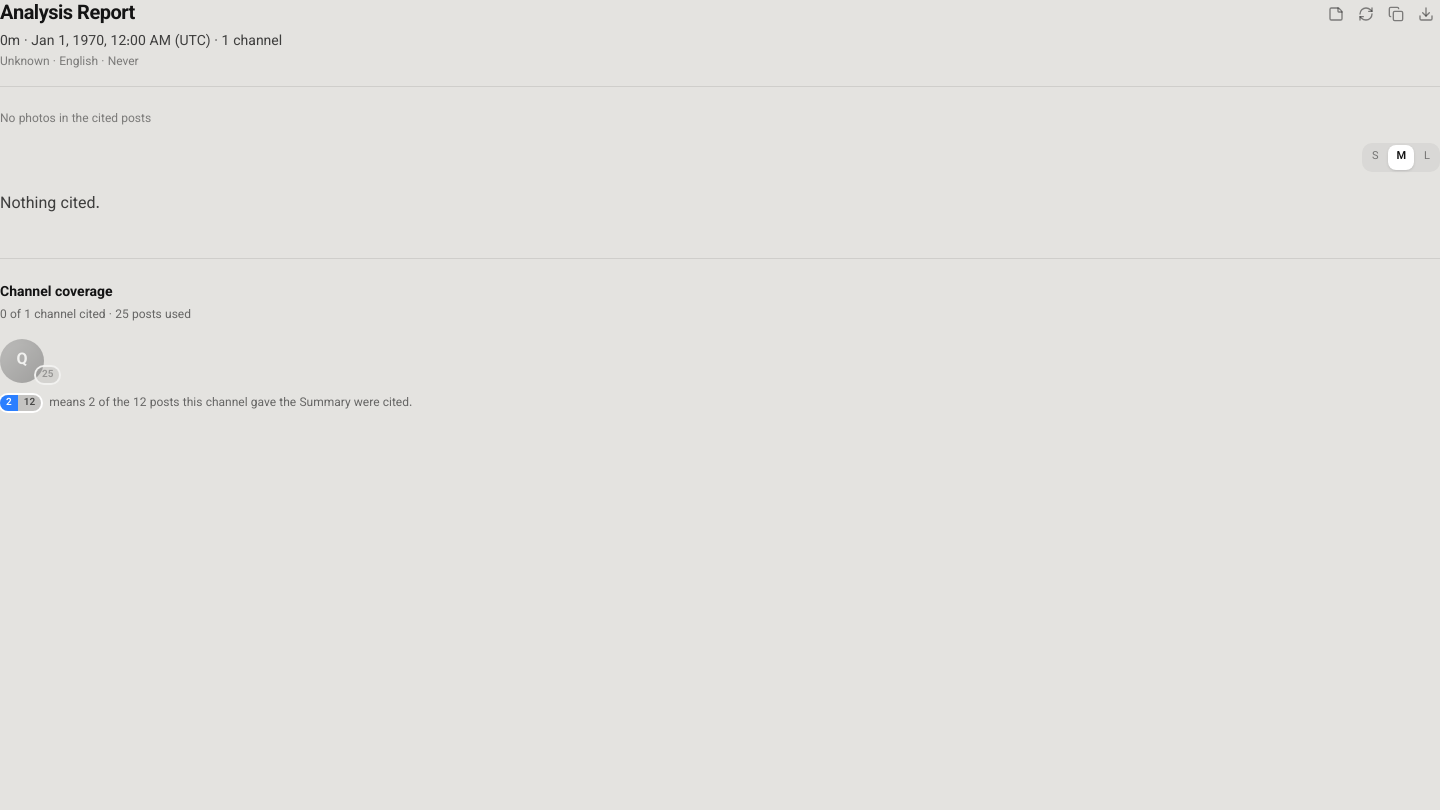
Test: the Channel posts sheet › a never-cited Channel opens too, its Posts newest first, 20 at a time
This screenshot has width=1440, height=810.
Click the button "Q 25": (22, 360) [0,338,44,382]
(page scrolled)
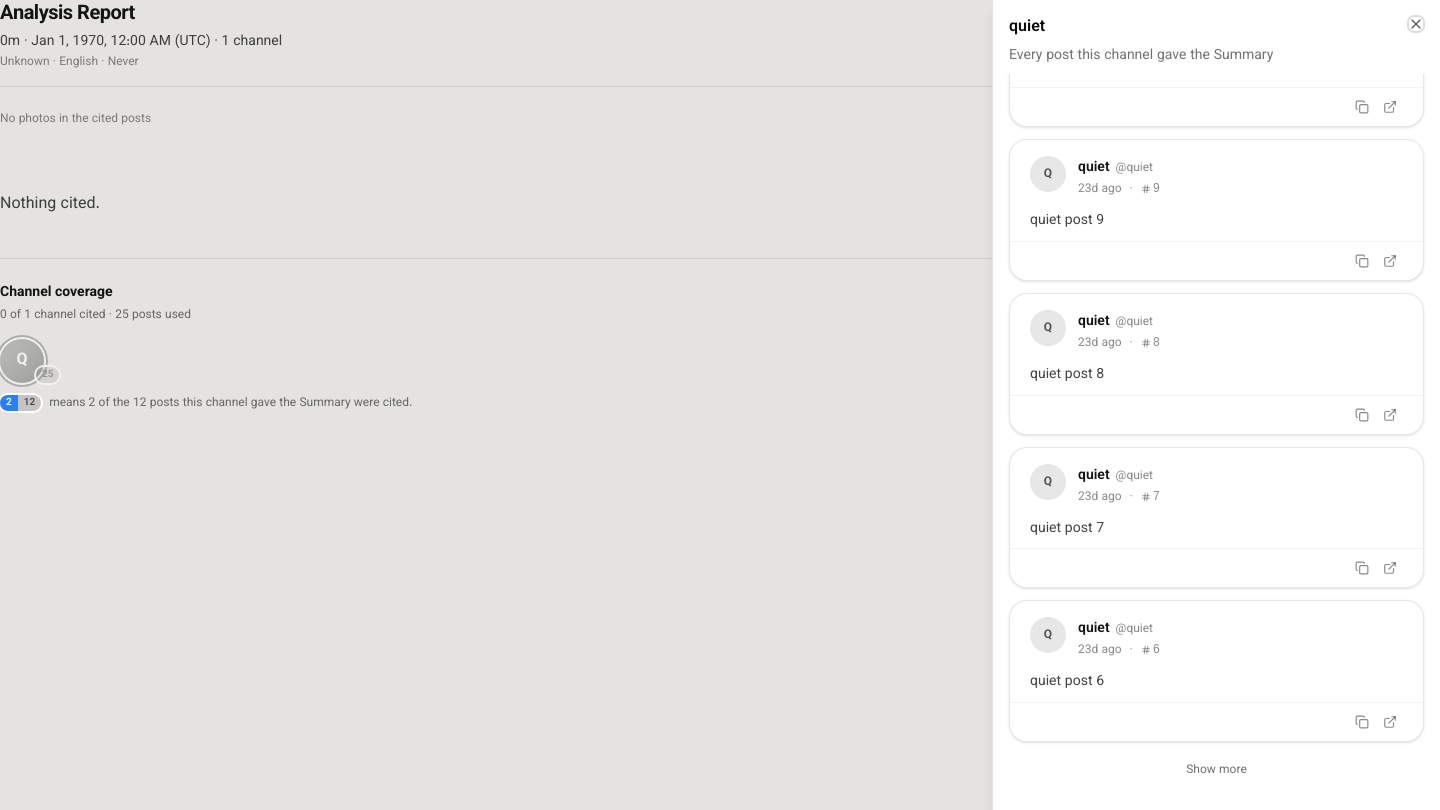
Click the button "Show more": (1216, 770) [1009,754,1424,786]
(page scrolled)
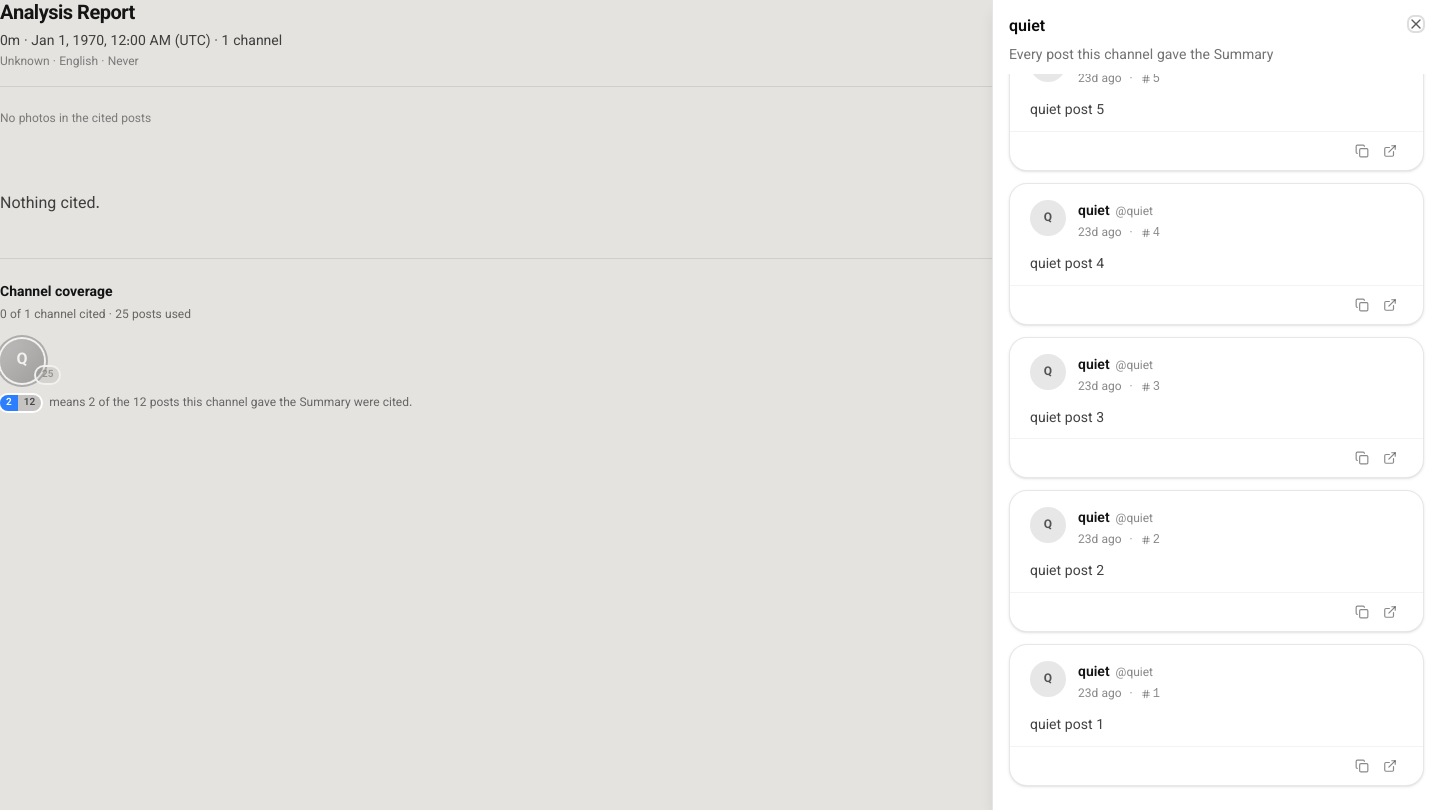
Check: the button "Show more" is gone
